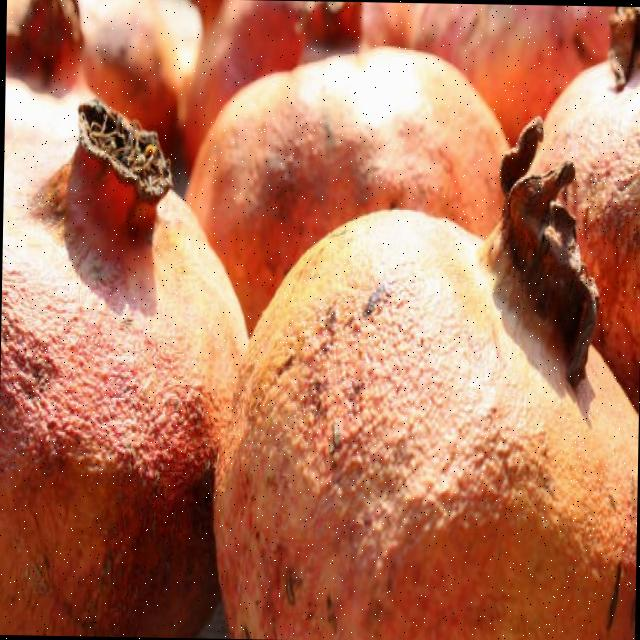overripe: (209, 95, 640, 640), (0, 65, 249, 637)
